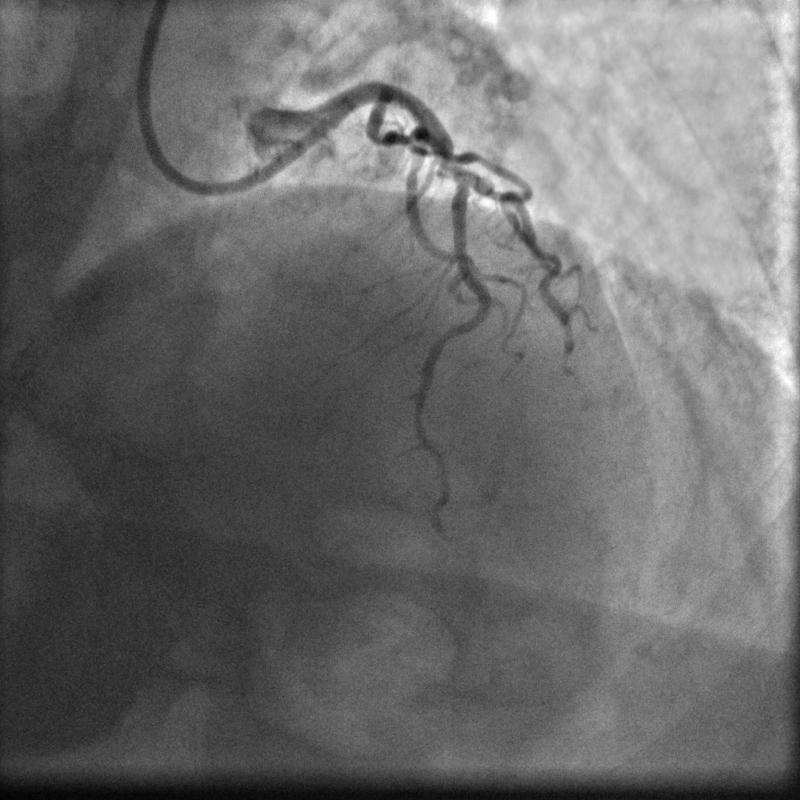Stenosis: (432, 155, 463, 176)
